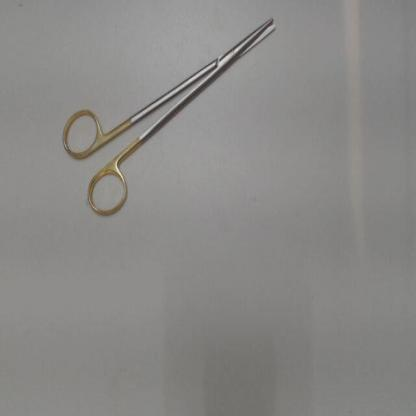7 Metzenbaum Scissors: (58, 11, 281, 224)
